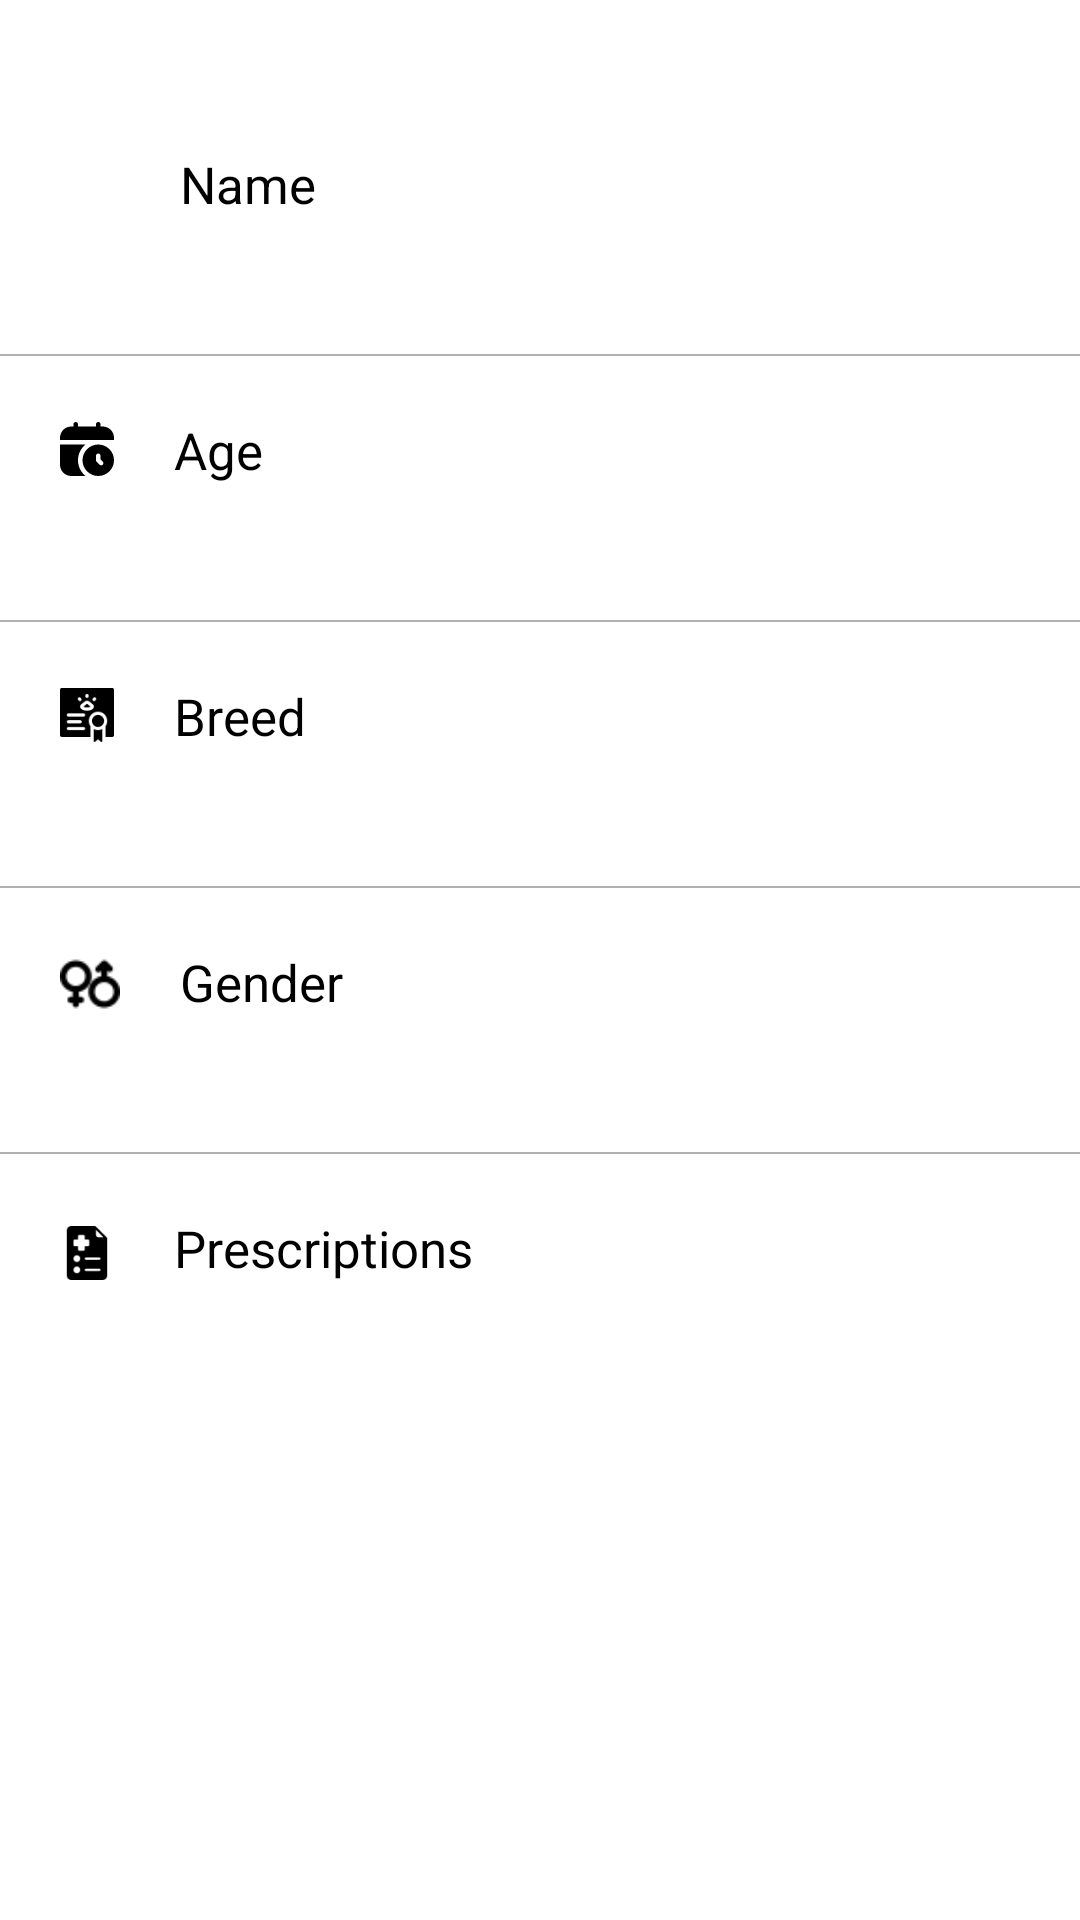

Screen size 1080w x 1920h. Icon name, then its center in pixels as (x=x, y=y):
calendar clock: (x=87, y=449)
